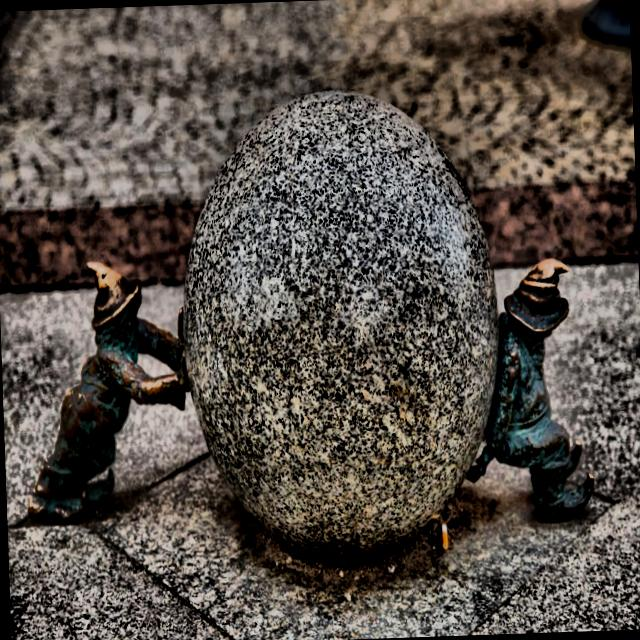Syzyfki: (12, 70, 608, 592)
